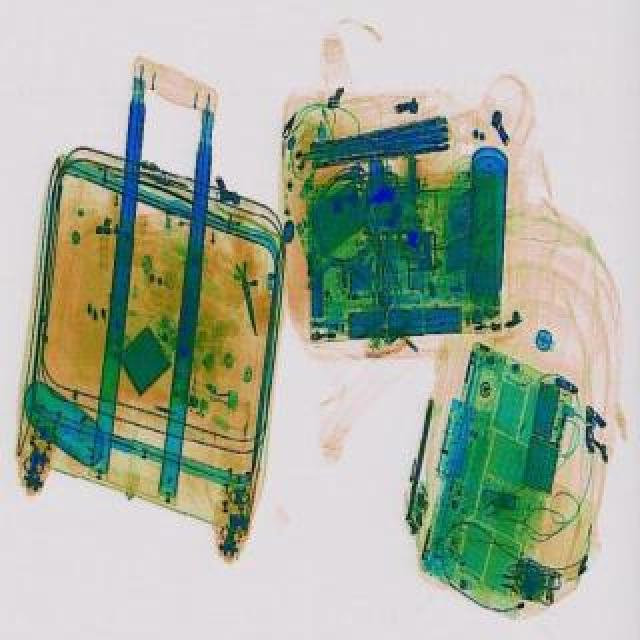knife: (236, 256, 260, 336)
